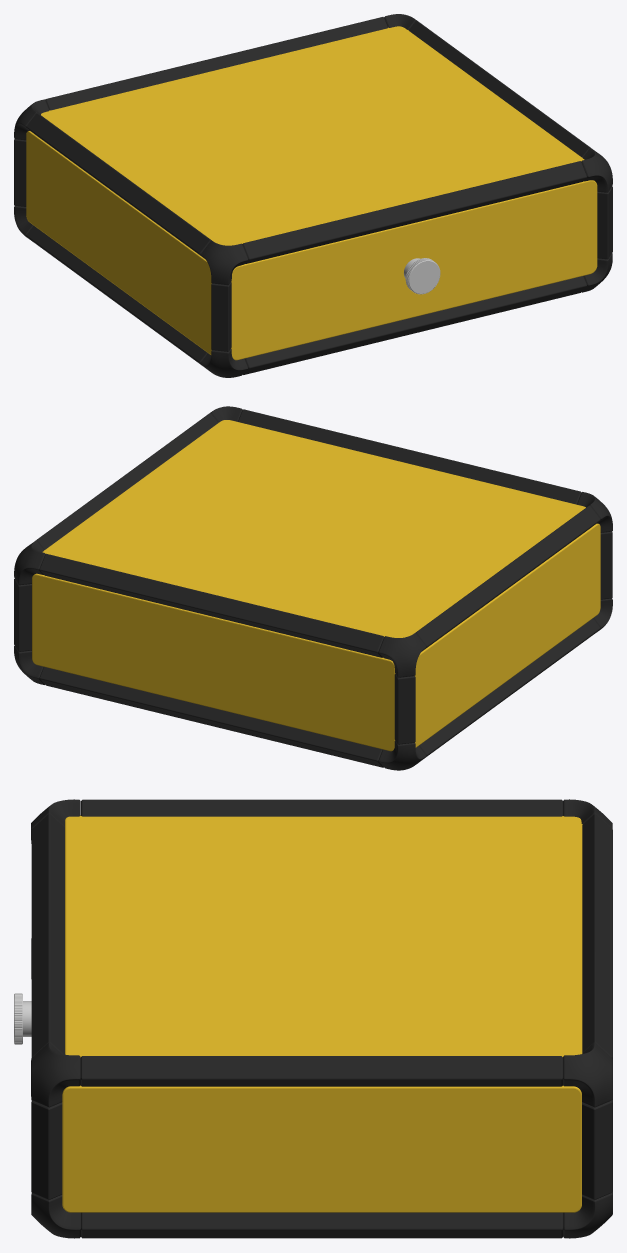
The picture shows the model from 3 angles, top to bottom: view 1: azimuth 30°, elevation 25°; view 2: azimuth 150°, elevation 25°; view 3: azimuth 270°, elevation 25°; orthographic projection. The views are drawn at different scales.
Parts seen in each view (by area): view 1: 420x374x79; view 2: 420x374x79; view 3: 420x374x79.
Part boxes in pixels (bbox=[...]): 420x374x79: bbox=[14, 14, 612, 377]; 420x374x79: bbox=[14, 406, 612, 770]; 420x374x79: bbox=[14, 799, 612, 1238].
Bounding box in the file's own units: 0.4977 × 0.1566 × 0.4646.
